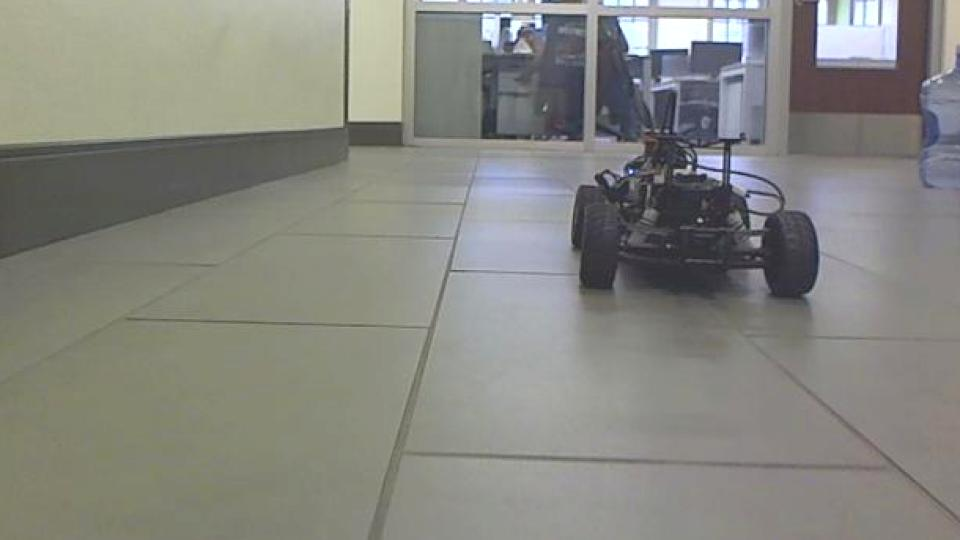car: (566, 118, 822, 300)
